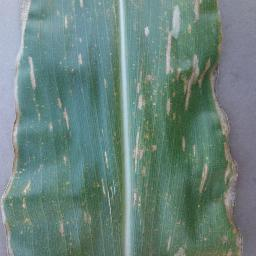Gray_Leaf_Spot: (216, 123, 248, 256), (2, 53, 22, 256), (134, 65, 158, 173), (203, 59, 236, 123), (163, 0, 182, 74), (96, 147, 118, 206), (182, 51, 201, 112), (16, 0, 35, 52), (53, 96, 71, 135), (22, 174, 33, 230), (132, 180, 150, 212), (78, 203, 96, 232), (26, 53, 38, 94), (197, 158, 209, 198), (54, 216, 70, 240), (165, 87, 175, 122), (192, 0, 203, 28), (73, 48, 86, 67), (171, 244, 191, 256), (140, 23, 154, 39), (178, 134, 188, 153), (60, 11, 69, 31), (62, 151, 71, 167), (191, 140, 196, 161), (103, 76, 109, 92), (77, 0, 86, 10)
